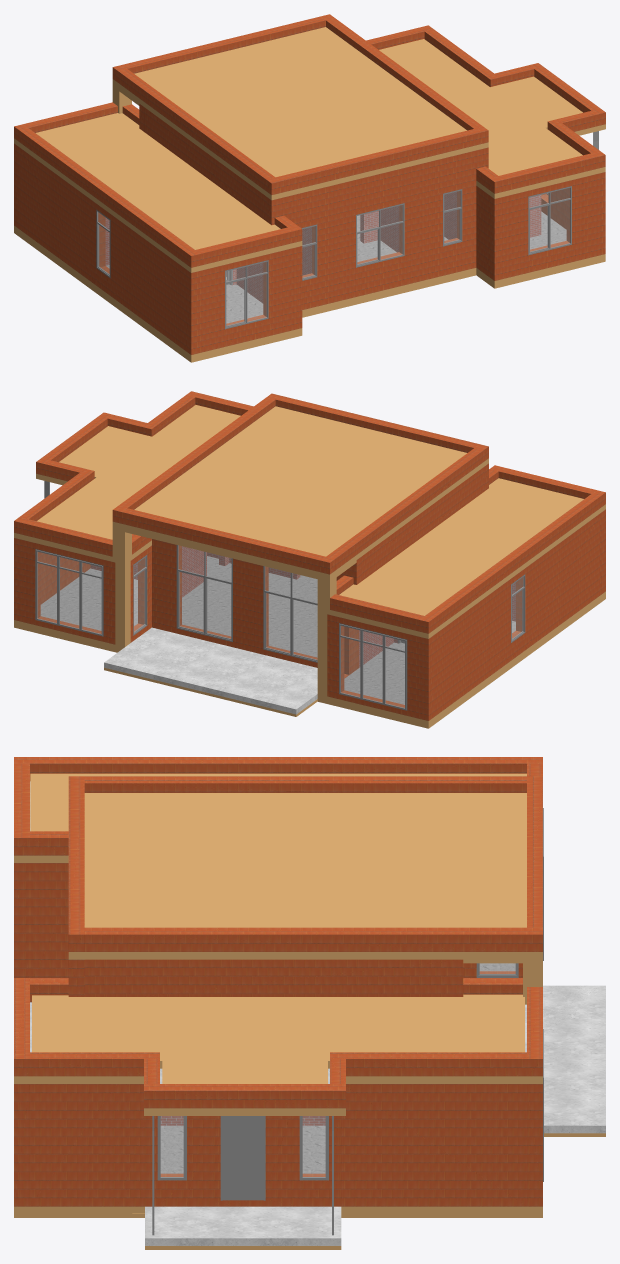
Rendered from warm-contour.glb.
The picture shows the model from 3 angles, top to bottom: view 1: azimuth 30°, elevation 25°; view 2: azimuth 150°, elevation 25°; view 3: azimuth 270°, elevation 25°; orthographic projection. The views are drawn at different scales.
Visible parts, largest first — view 1: [М] БЛОКИ - КЕРАМИЧЕСКИЕ, [М] ТЕПЛОИЗОЛЯЦИЯ - ЭППС, [М] СТЕКЛО, [М] КИРПИЧ - КЛАДОЧНЫЙ, [М] ПОКРЫТИЕ - ОКНА ДВЕРИ, [М] БЕТОН - ЛЕГКИЙ; view 2: [М] ТЕПЛОИЗОЛЯЦИЯ - ЭППС, [М] БЛОКИ - КЕРАМИЧЕСКИЕ, [М] СТЕКЛО, [М] БЕТОН - ЛЕГКИЙ, [М] ЖЕЛЕЗОБЕТОН - КОНСТРУКЦИОННЫЙ, [М] ПОКРЫТИЕ - ОКНА ДВЕРИ, [М] КИРПИЧ - КЛАДОЧНЫЙ; view 3: [М] БЛОКИ - КЕРАМИЧЕСКИЕ, [М] ТЕПЛОИЗОЛЯЦИЯ - ЭППС, [М] ЖЕЛЕЗОБЕТОН - КОНСТРУКЦИОННЫЙ, [М] ПОКРЫТИЕ - ОКНА ДВЕРИ, [М] СТЕКЛО, [М] БЕТОН - ЛЕГКИЙ.
Part boxes in pixels (left/top/right/bottom): [М] БЛОКИ - КЕРАМИЧЕСКИЕ: left=14, top=14, right=605, bottom=354; [М] ТЕПЛОИЗОЛЯЦИЯ - ЭППС: left=14, top=27, right=605, bottom=362; [М] СТЕКЛО: left=98, top=188, right=570, bottom=325; [М] КИРПИЧ - КЛАДОЧНЫЙ: left=105, top=191, right=541, bottom=303; [М] ПОКРЫТИЕ - ОКНА ДВЕРИ: left=96, top=131, right=598, bottom=329; [М] БЕТОН - ЛЕГКИЙ: left=106, top=211, right=566, bottom=323; [М] ТЕПЛОИЗОЛЯЦИЯ - ЭППС: left=14, top=405, right=605, bottom=728; [М] БЛОКИ - КЕРАМИЧЕСКИЕ: left=14, top=391, right=605, bottom=720; [М] СТЕКЛО: left=37, top=545, right=523, bottom=707; [М] БЕТОН - ЛЕГКИЙ: left=40, top=556, right=515, bottom=704; [М] ЖЕЛЕЗОБЕТОН - КОНСТРУКЦИОННЫЙ: left=104, top=627, right=317, bottom=714; [М] ПОКРЫТИЕ - ОКНА ДВЕРИ: left=35, top=481, right=525, bottom=710; [М] КИРПИЧ - КЛАДОЧНЫЙ: left=90, top=546, right=515, bottom=667; [М] БЛОКИ - КЕРАМИЧЕСКИЕ: left=14, top=757, right=542, bottom=1206; [М] ТЕПЛОИЗОЛЯЦИЯ - ЭППС: left=14, top=773, right=605, bottom=1249; [М] ЖЕЛЕЗОБЕТОН - КОНСТРУКЦИОННЫЙ: left=30, top=781, right=605, bottom=1245; [М] ПОКРЫТИЕ - ОКНА ДВЕРИ: left=152, top=808, right=543, bottom=1200; [М] СТЕКЛО: left=161, top=963, right=515, bottom=1177; [М] БЕТОН - ЛЕГКИЙ: left=160, top=963, right=515, bottom=1173.
Size of the model in its own units: 18.81 by 5.56 by 14.1.
9 materials, 4 textured.
